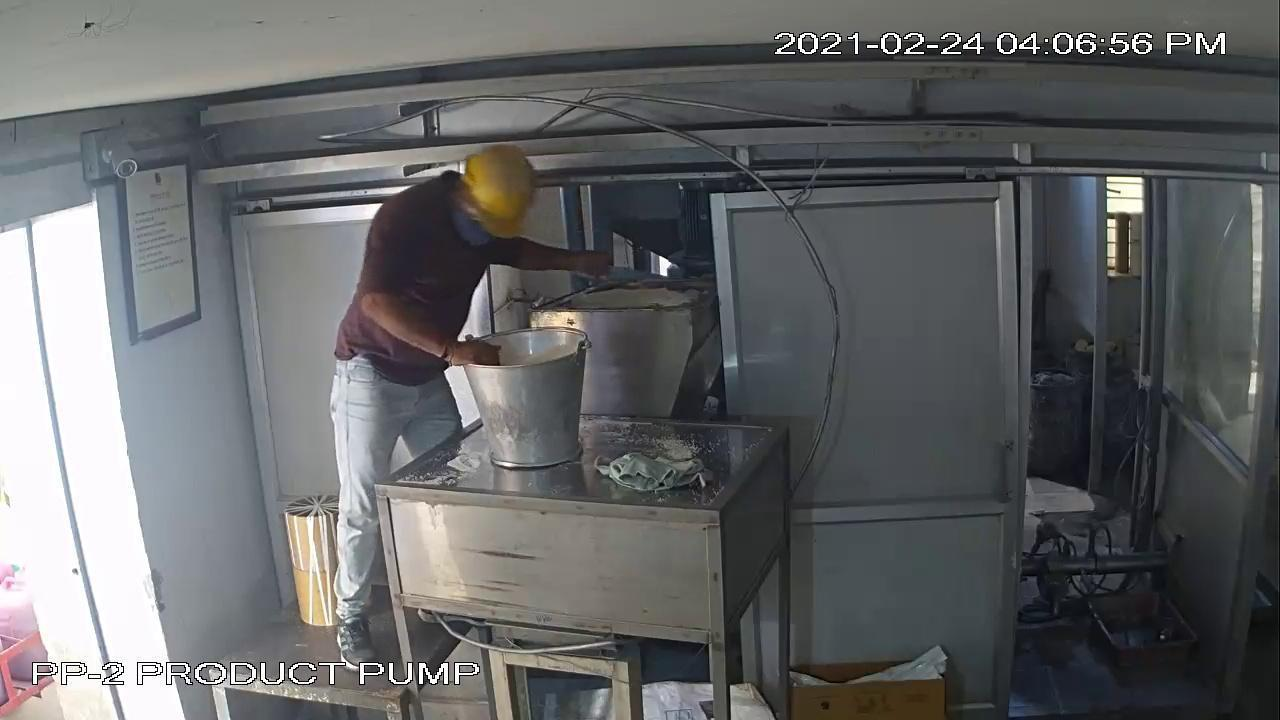helmet: (453, 140, 542, 231)
